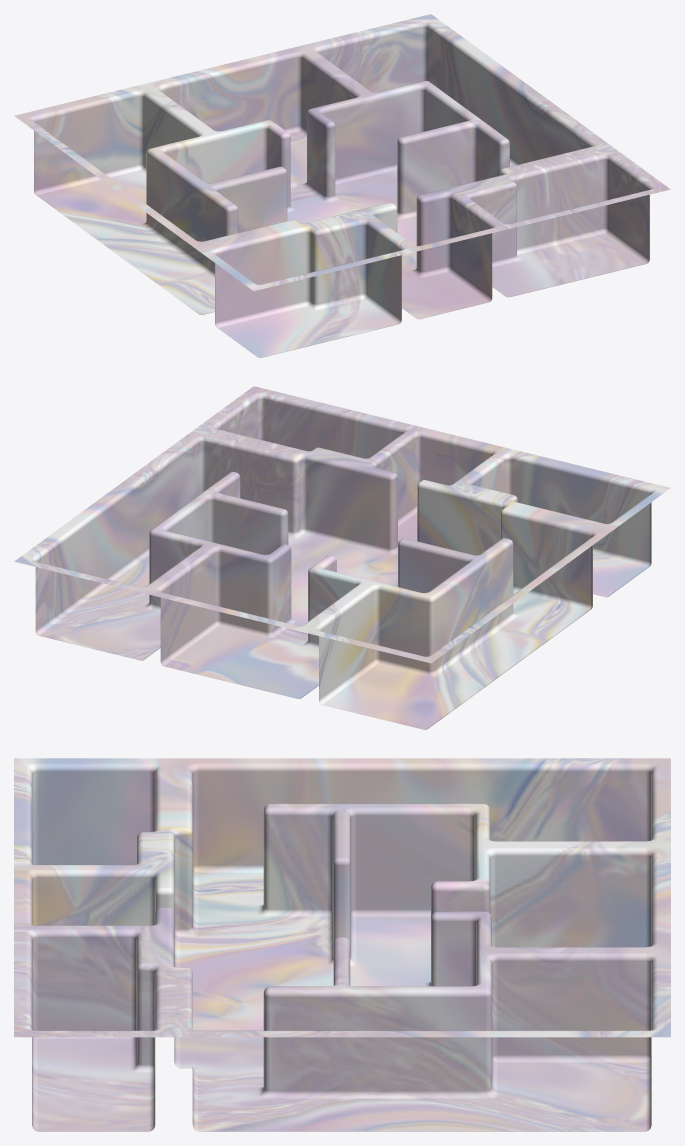
File: walls2.gltf
3 views of the same model, one above another, from view 1: azimuth 30°, elevation 25°; view 2: azimuth 150°, elevation 25°; view 3: azimuth 270°, elevation 25° (orthographic). The views are drawn at different scales.
Parts seen in each view (by area): view 1: Gallery; view 2: Gallery; view 3: Gallery.
Boxes of the visible parts, box(x1,y1,x2,y2) form: Gallery: box(14, 14, 670, 357); Gallery: box(14, 386, 670, 729); Gallery: box(14, 758, 670, 1131).
Bounding box in the file's own units: 54.66 × 9.59 × 54.41.
Materials: 1 (1 with a texture image).
